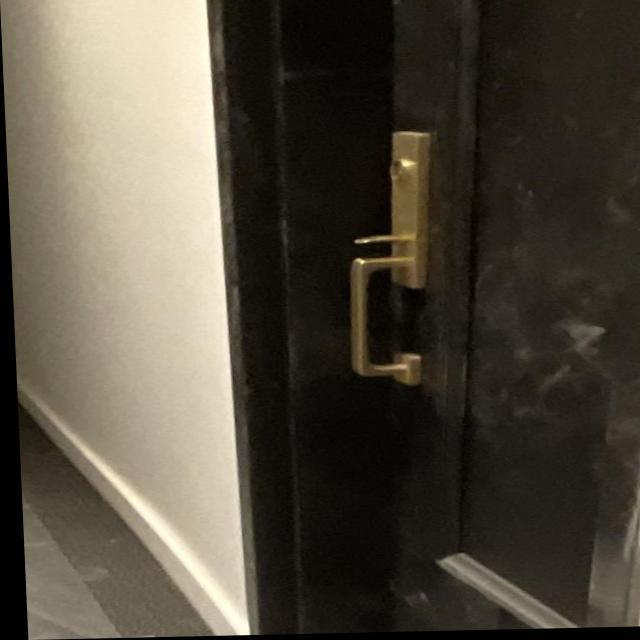door_handle: (324, 253, 449, 397)
